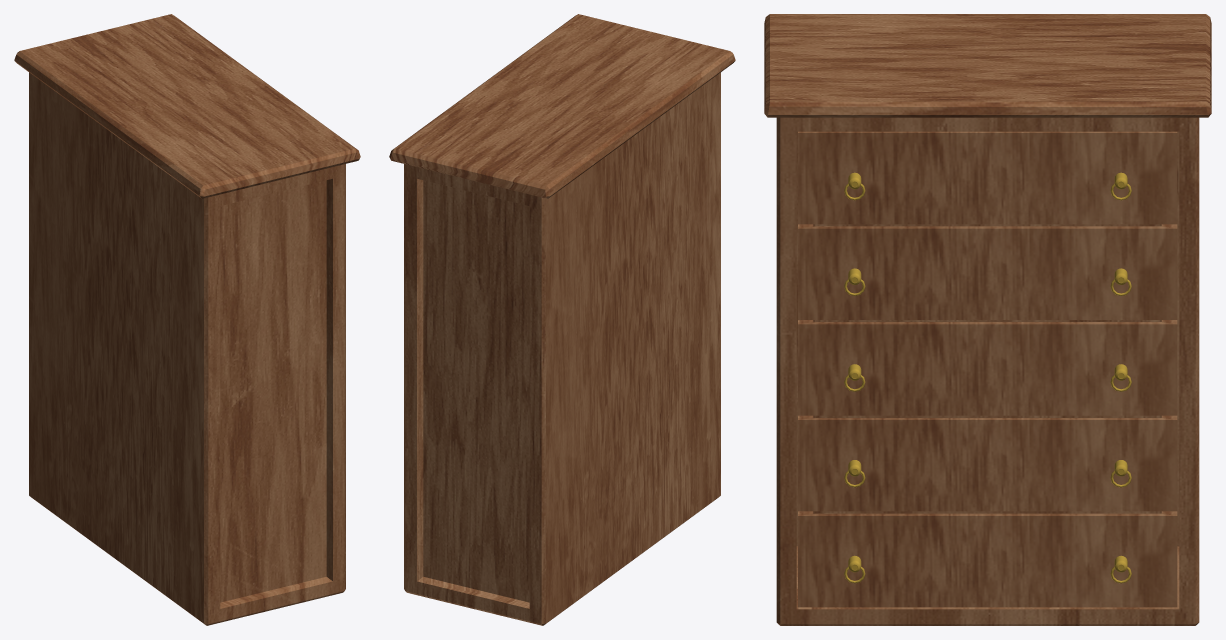
The model's file is CASSETTIERA.fbx.
The picture shows the model from 3 angles, left to right: view 1: azimuth 30°, elevation 25°; view 2: azimuth 150°, elevation 25°; view 3: azimuth 270°, elevation 25°; orthographic projection. The views are drawn at different scales.
Parts seen in each view (by area): view 1: pCube13; view 2: pCube13; view 3: pCube13, pCube18, pCube14, pCube19, pCube20, pCube21.
Boxes of the visible parts, left/top/right/bottom form: pCube13: left=14, top=14, right=360, bottom=625; pCube13: left=389, top=14, right=735, bottom=625; pCube13: left=764, top=14, right=1211, bottom=625; pCube18: left=798, top=511, right=1177, bottom=607; pCube14: left=798, top=415, right=1177, bottom=511; pCube19: left=798, top=320, right=1177, bottom=415; pCube20: left=798, top=224, right=1177, bottom=319; pCube21: left=798, top=131, right=1177, bottom=224.
Size of the model in its own units: 2.21 by 5.8 by 4.45.
